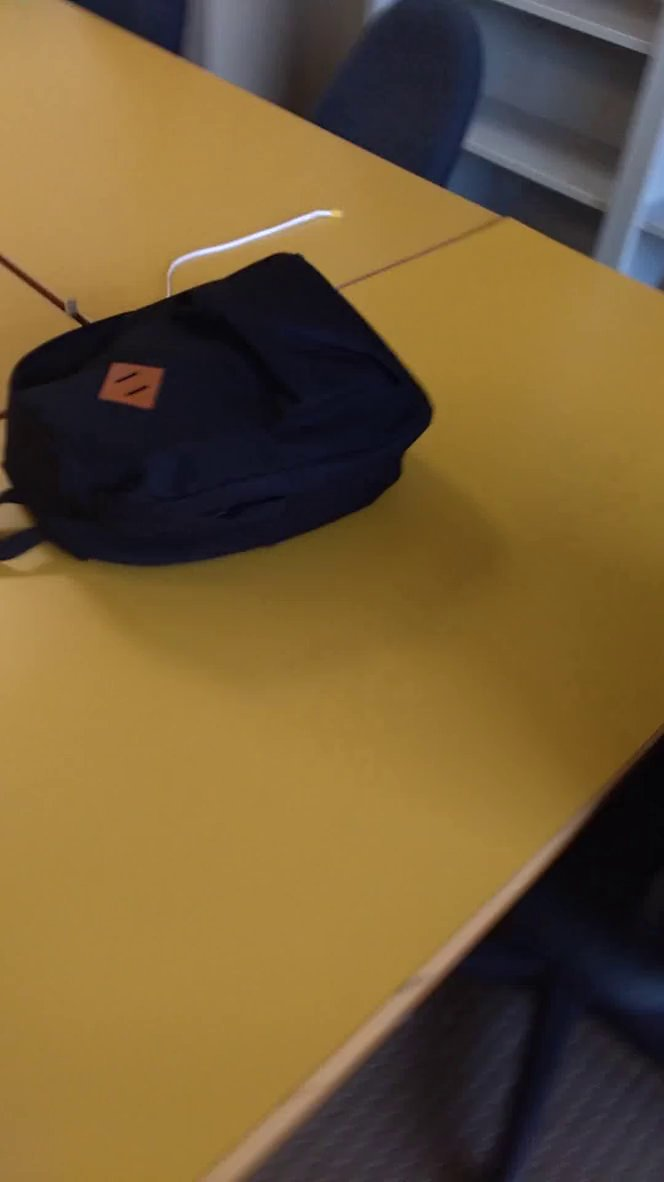bag: (2, 244, 445, 603)
chair: (302, 1, 498, 207)
